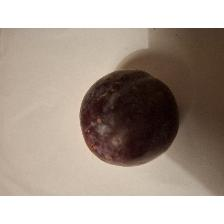Pflaume: (75, 66, 183, 168)
